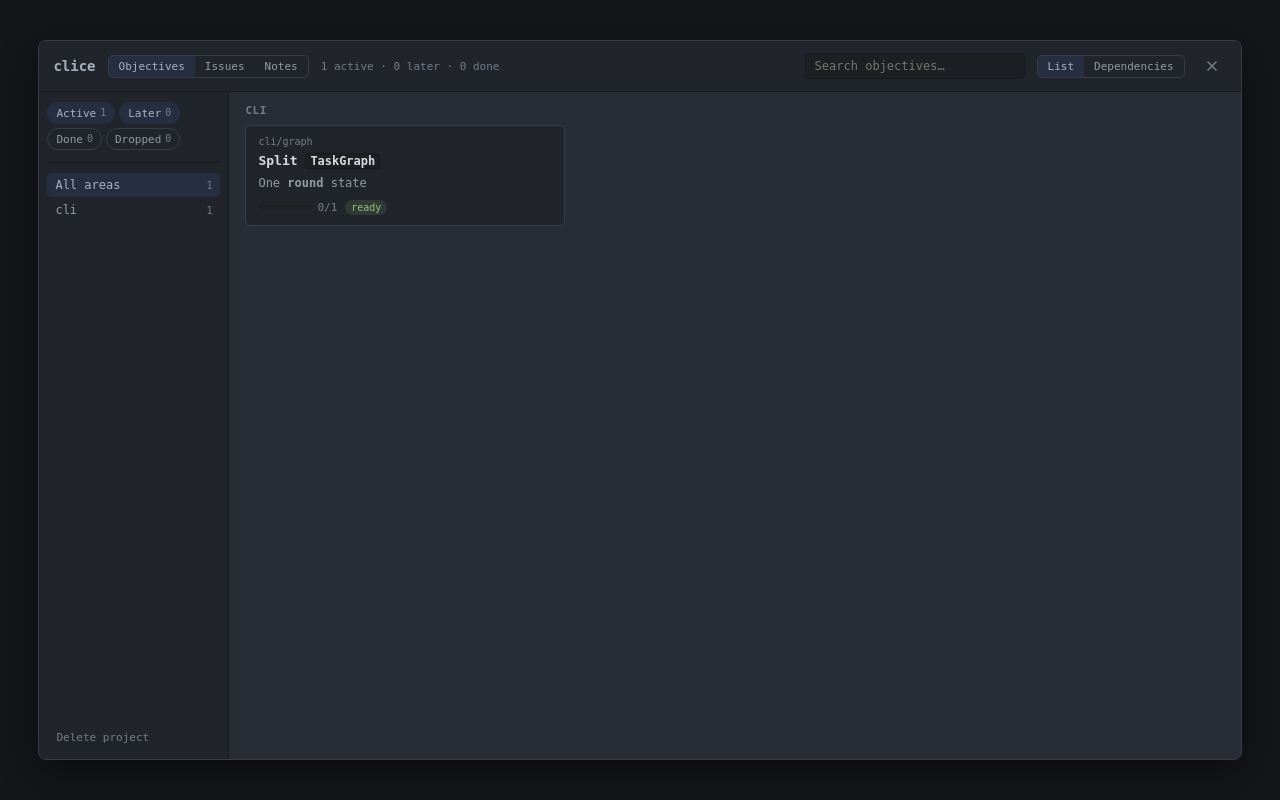
Scenario: BoardPage › writes the markdown of titles, goals, tasks and decisions out instead of its marks
The width and height of the screenshot is (1280, 800).
Check: the text "round" is shown, box [287, 176, 323, 190]
Click the text "TaskGraph" at coordinates (343, 161), box [305, 153, 380, 169]
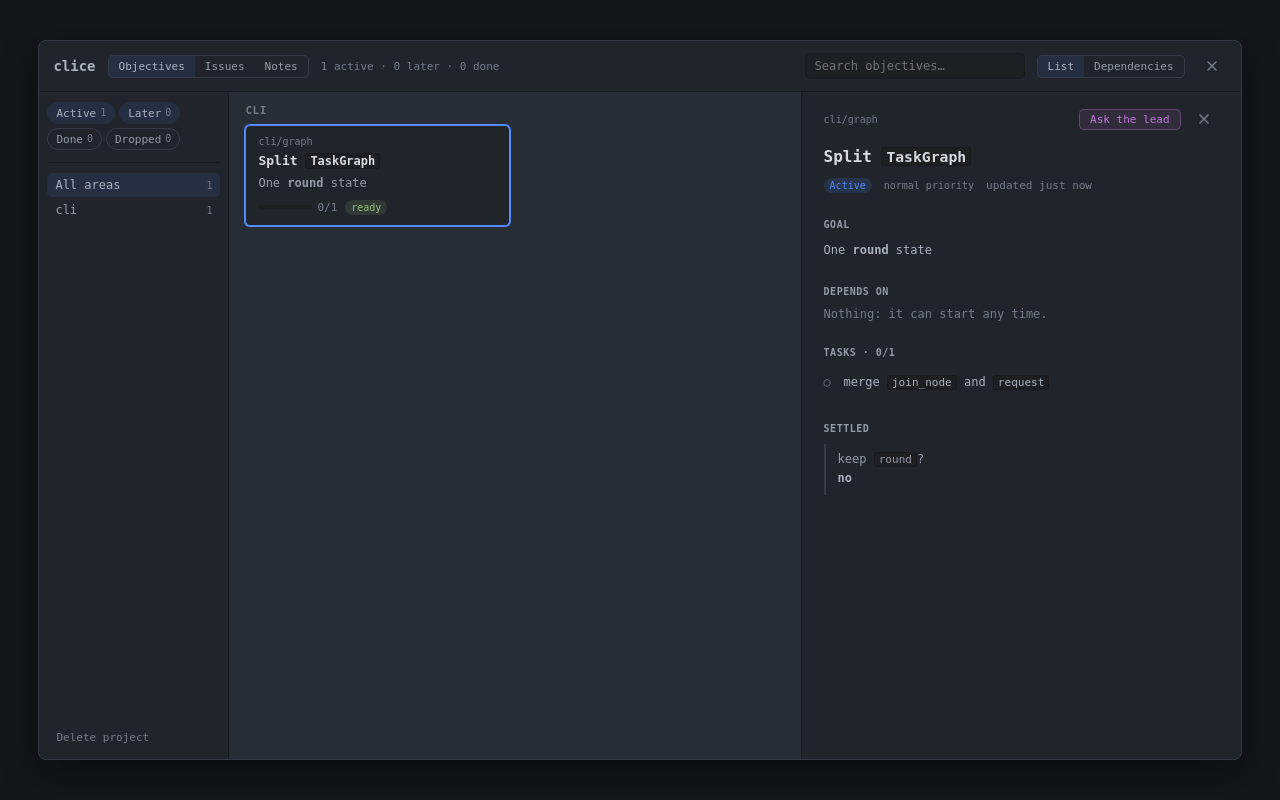
Check: the heading with class "bp-detail-title" reads "Split TaskGraph", box [824, 147, 971, 166]
Check: the element with class "bp-task-text" reads "merge join_node and request", box [844, 375, 1049, 390]
Check: the text "round" next to "keep" is shown, box [879, 453, 912, 466]
